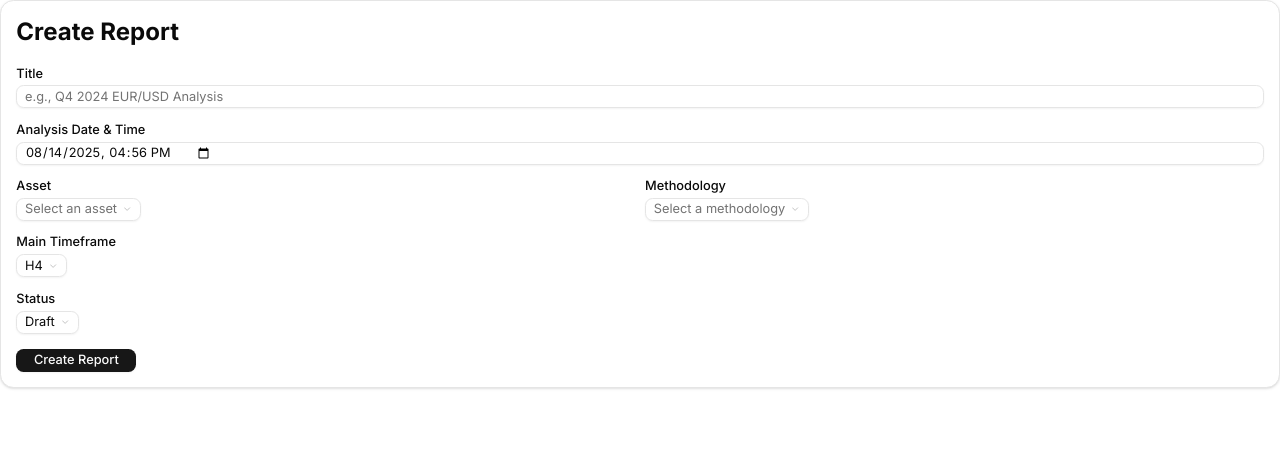
ReportForm › shows validation errors for invalid inputs
This screenshot has width=1280, height=453.
Click the button "Create Report".
click(76, 360)  # box [16,349,136,372]
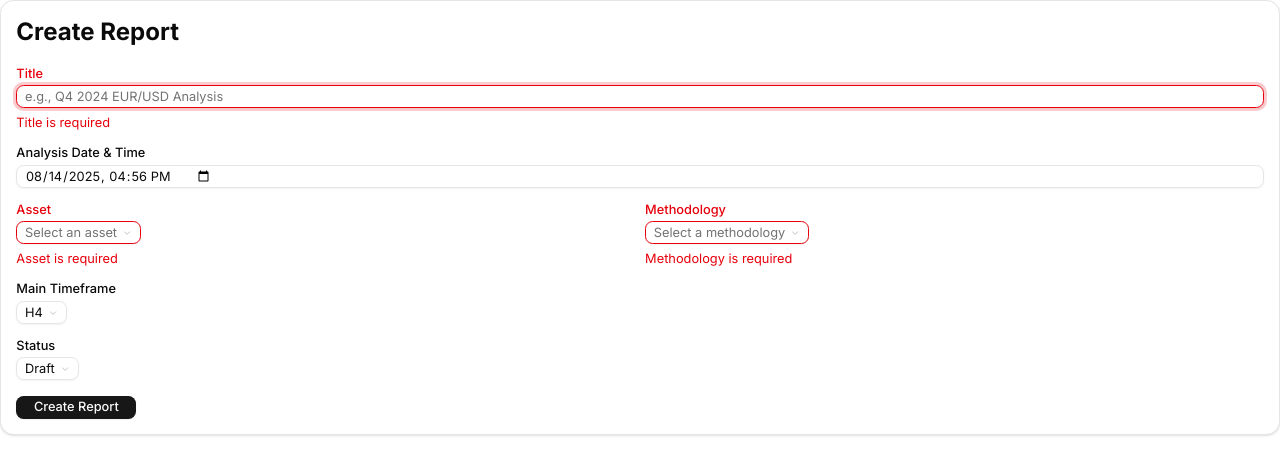
expect the text "Title is required" is shown: met, box [16,115,110,130]
expect the text "Asset is required" is shown: met, box [16,251,118,266]
expect the text "Methodology is required" is shown: met, box [645,251,792,266]
